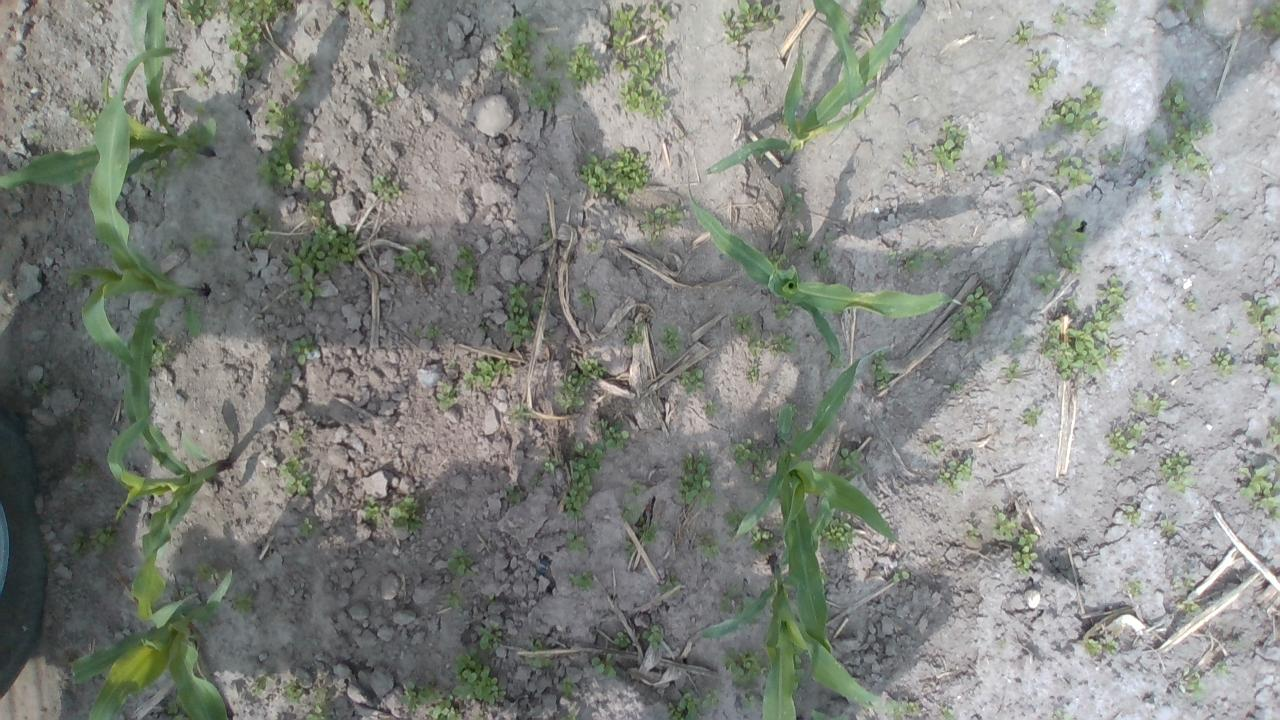Maize: (76, 42, 211, 454), (687, 162, 960, 364), (734, 348, 904, 670), (0, 0, 220, 188), (701, 0, 926, 174), (695, 553, 909, 720), (106, 371, 227, 628), (64, 562, 234, 720), (781, 0, 865, 151), (130, 0, 182, 142)
Weeds: (608, 2, 672, 120), (288, 224, 358, 308), (224, 0, 294, 74), (1042, 318, 1121, 380), (253, 96, 300, 188), (578, 145, 651, 202), (1148, 113, 1214, 176), (1038, 86, 1110, 140), (562, 440, 605, 520), (452, 648, 508, 706), (495, 15, 538, 86), (674, 450, 719, 506), (1237, 464, 1280, 522), (949, 286, 993, 342), (1048, 218, 1088, 275), (563, 44, 604, 95), (392, 237, 442, 278), (719, 646, 770, 686), (1092, 274, 1126, 332), (1156, 448, 1198, 494), (504, 282, 534, 346), (730, 438, 771, 484), (1241, 298, 1280, 346), (933, 118, 967, 172), (134, 148, 174, 192), (463, 356, 513, 391), (554, 370, 592, 414), (818, 514, 859, 553), (448, 245, 479, 296), (389, 495, 427, 536), (528, 75, 568, 113), (591, 416, 630, 452), (1054, 156, 1094, 191), (938, 456, 974, 494), (736, 0, 780, 31), (716, 583, 754, 618), (68, 95, 102, 134), (280, 456, 312, 496), (398, 681, 442, 710), (1160, 81, 1190, 123), (244, 205, 274, 246), (1130, 388, 1170, 418), (667, 683, 699, 720), (1013, 528, 1038, 574), (178, 0, 220, 27), (1104, 427, 1132, 467), (1016, 185, 1044, 224), (1249, 0, 1280, 35), (302, 160, 332, 196), (1083, 0, 1117, 31), (1026, 68, 1058, 100), (640, 204, 666, 243), (446, 548, 478, 578), (989, 509, 1018, 542), (285, 60, 313, 94), (870, 351, 894, 390), (780, 184, 806, 220), (1178, 666, 1206, 699), (427, 694, 462, 720), (90, 524, 120, 554), (750, 524, 780, 554), (856, 0, 886, 29), (540, 42, 569, 71), (660, 323, 684, 358), (371, 173, 402, 200), (1029, 270, 1061, 296), (904, 246, 934, 273), (590, 652, 619, 679), (150, 334, 173, 368), (291, 336, 317, 366), (188, 231, 216, 258), (1259, 349, 1280, 385), (722, 507, 748, 536), (476, 620, 501, 650), (1210, 350, 1236, 378), (282, 676, 306, 706), (885, 699, 919, 720), (693, 532, 721, 557), (578, 356, 607, 380), (67, 530, 90, 560), (174, 146, 200, 172), (436, 382, 458, 412), (679, 368, 705, 393), (620, 322, 647, 346), (641, 623, 664, 651), (1263, 412, 1280, 448), (504, 402, 534, 422), (569, 568, 594, 592), (770, 332, 795, 356), (303, 198, 326, 224), (658, 572, 683, 595), (838, 448, 863, 471), (363, 498, 385, 524), (1010, 22, 1034, 45), (636, 521, 658, 546), (250, 671, 272, 696), (1148, 351, 1170, 376), (809, 248, 831, 272), (1176, 596, 1202, 616), (74, 460, 100, 480), (747, 332, 767, 358), (304, 703, 334, 720), (792, 652, 805, 691), (621, 499, 643, 522), (168, 697, 190, 720), (566, 531, 588, 554), (442, 589, 466, 610), (987, 150, 1008, 174), (67, 273, 92, 293), (1099, 147, 1122, 168), (1189, 0, 1210, 22), (233, 592, 254, 614), (790, 229, 812, 250), (350, 0, 371, 21), (577, 288, 598, 309), (1140, 160, 1162, 180), (1126, 420, 1148, 440), (702, 686, 722, 708), (767, 248, 787, 270), (812, 708, 848, 720), (1121, 506, 1142, 526), (196, 562, 217, 582), (540, 457, 561, 477), (1023, 407, 1044, 427), (772, 300, 793, 320), (733, 314, 753, 335), (824, 348, 842, 371), (666, 204, 684, 227), (1051, 5, 1068, 29), (1182, 296, 1202, 316), (297, 516, 316, 537), (288, 427, 306, 449), (31, 378, 50, 398), (503, 484, 522, 504), (724, 28, 745, 46), (625, 481, 647, 498), (192, 69, 214, 86), (372, 88, 394, 105), (524, 655, 552, 668), (701, 400, 720, 419), (1002, 362, 1020, 382), (1025, 53, 1046, 70), (561, 676, 576, 699), (613, 631, 633, 648), (1159, 519, 1177, 537), (1084, 638, 1102, 656), (741, 690, 758, 709), (730, 71, 750, 87), (902, 149, 916, 171), (1176, 354, 1194, 371), (425, 322, 442, 340), (1126, 580, 1142, 598), (1104, 638, 1120, 656), (926, 438, 942, 456), (937, 248, 953, 265), (1062, 294, 1078, 311), (746, 364, 760, 383), (1048, 709, 1072, 720), (178, 584, 196, 598), (395, 64, 409, 82), (966, 524, 980, 542), (892, 570, 910, 584), (1010, 334, 1024, 352), (378, 49, 398, 61), (394, 0, 411, 14), (624, 540, 637, 558), (532, 295, 545, 313), (1164, 0, 1185, 11), (540, 224, 552, 243), (940, 704, 954, 720), (717, 10, 733, 24), (884, 248, 896, 266), (1214, 660, 1228, 675), (192, 102, 208, 115), (527, 638, 541, 652), (831, 52, 845, 66), (312, 688, 328, 700), (71, 416, 83, 432), (372, 19, 388, 31), (823, 230, 837, 243), (1182, 576, 1195, 590), (164, 238, 176, 253), (560, 709, 576, 720), (948, 381, 964, 392), (330, 0, 348, 9), (26, 131, 42, 141), (470, 710, 486, 720), (791, 424, 804, 436), (1044, 142, 1056, 154), (530, 474, 542, 485), (282, 369, 292, 382), (485, 594, 495, 606), (412, 324, 422, 336), (478, 324, 488, 334), (1216, 214, 1230, 221), (588, 242, 600, 250), (792, 403, 801, 413), (218, 571, 228, 580), (1230, 328, 1240, 336), (448, 360, 456, 369), (1153, 192, 1163, 199)
